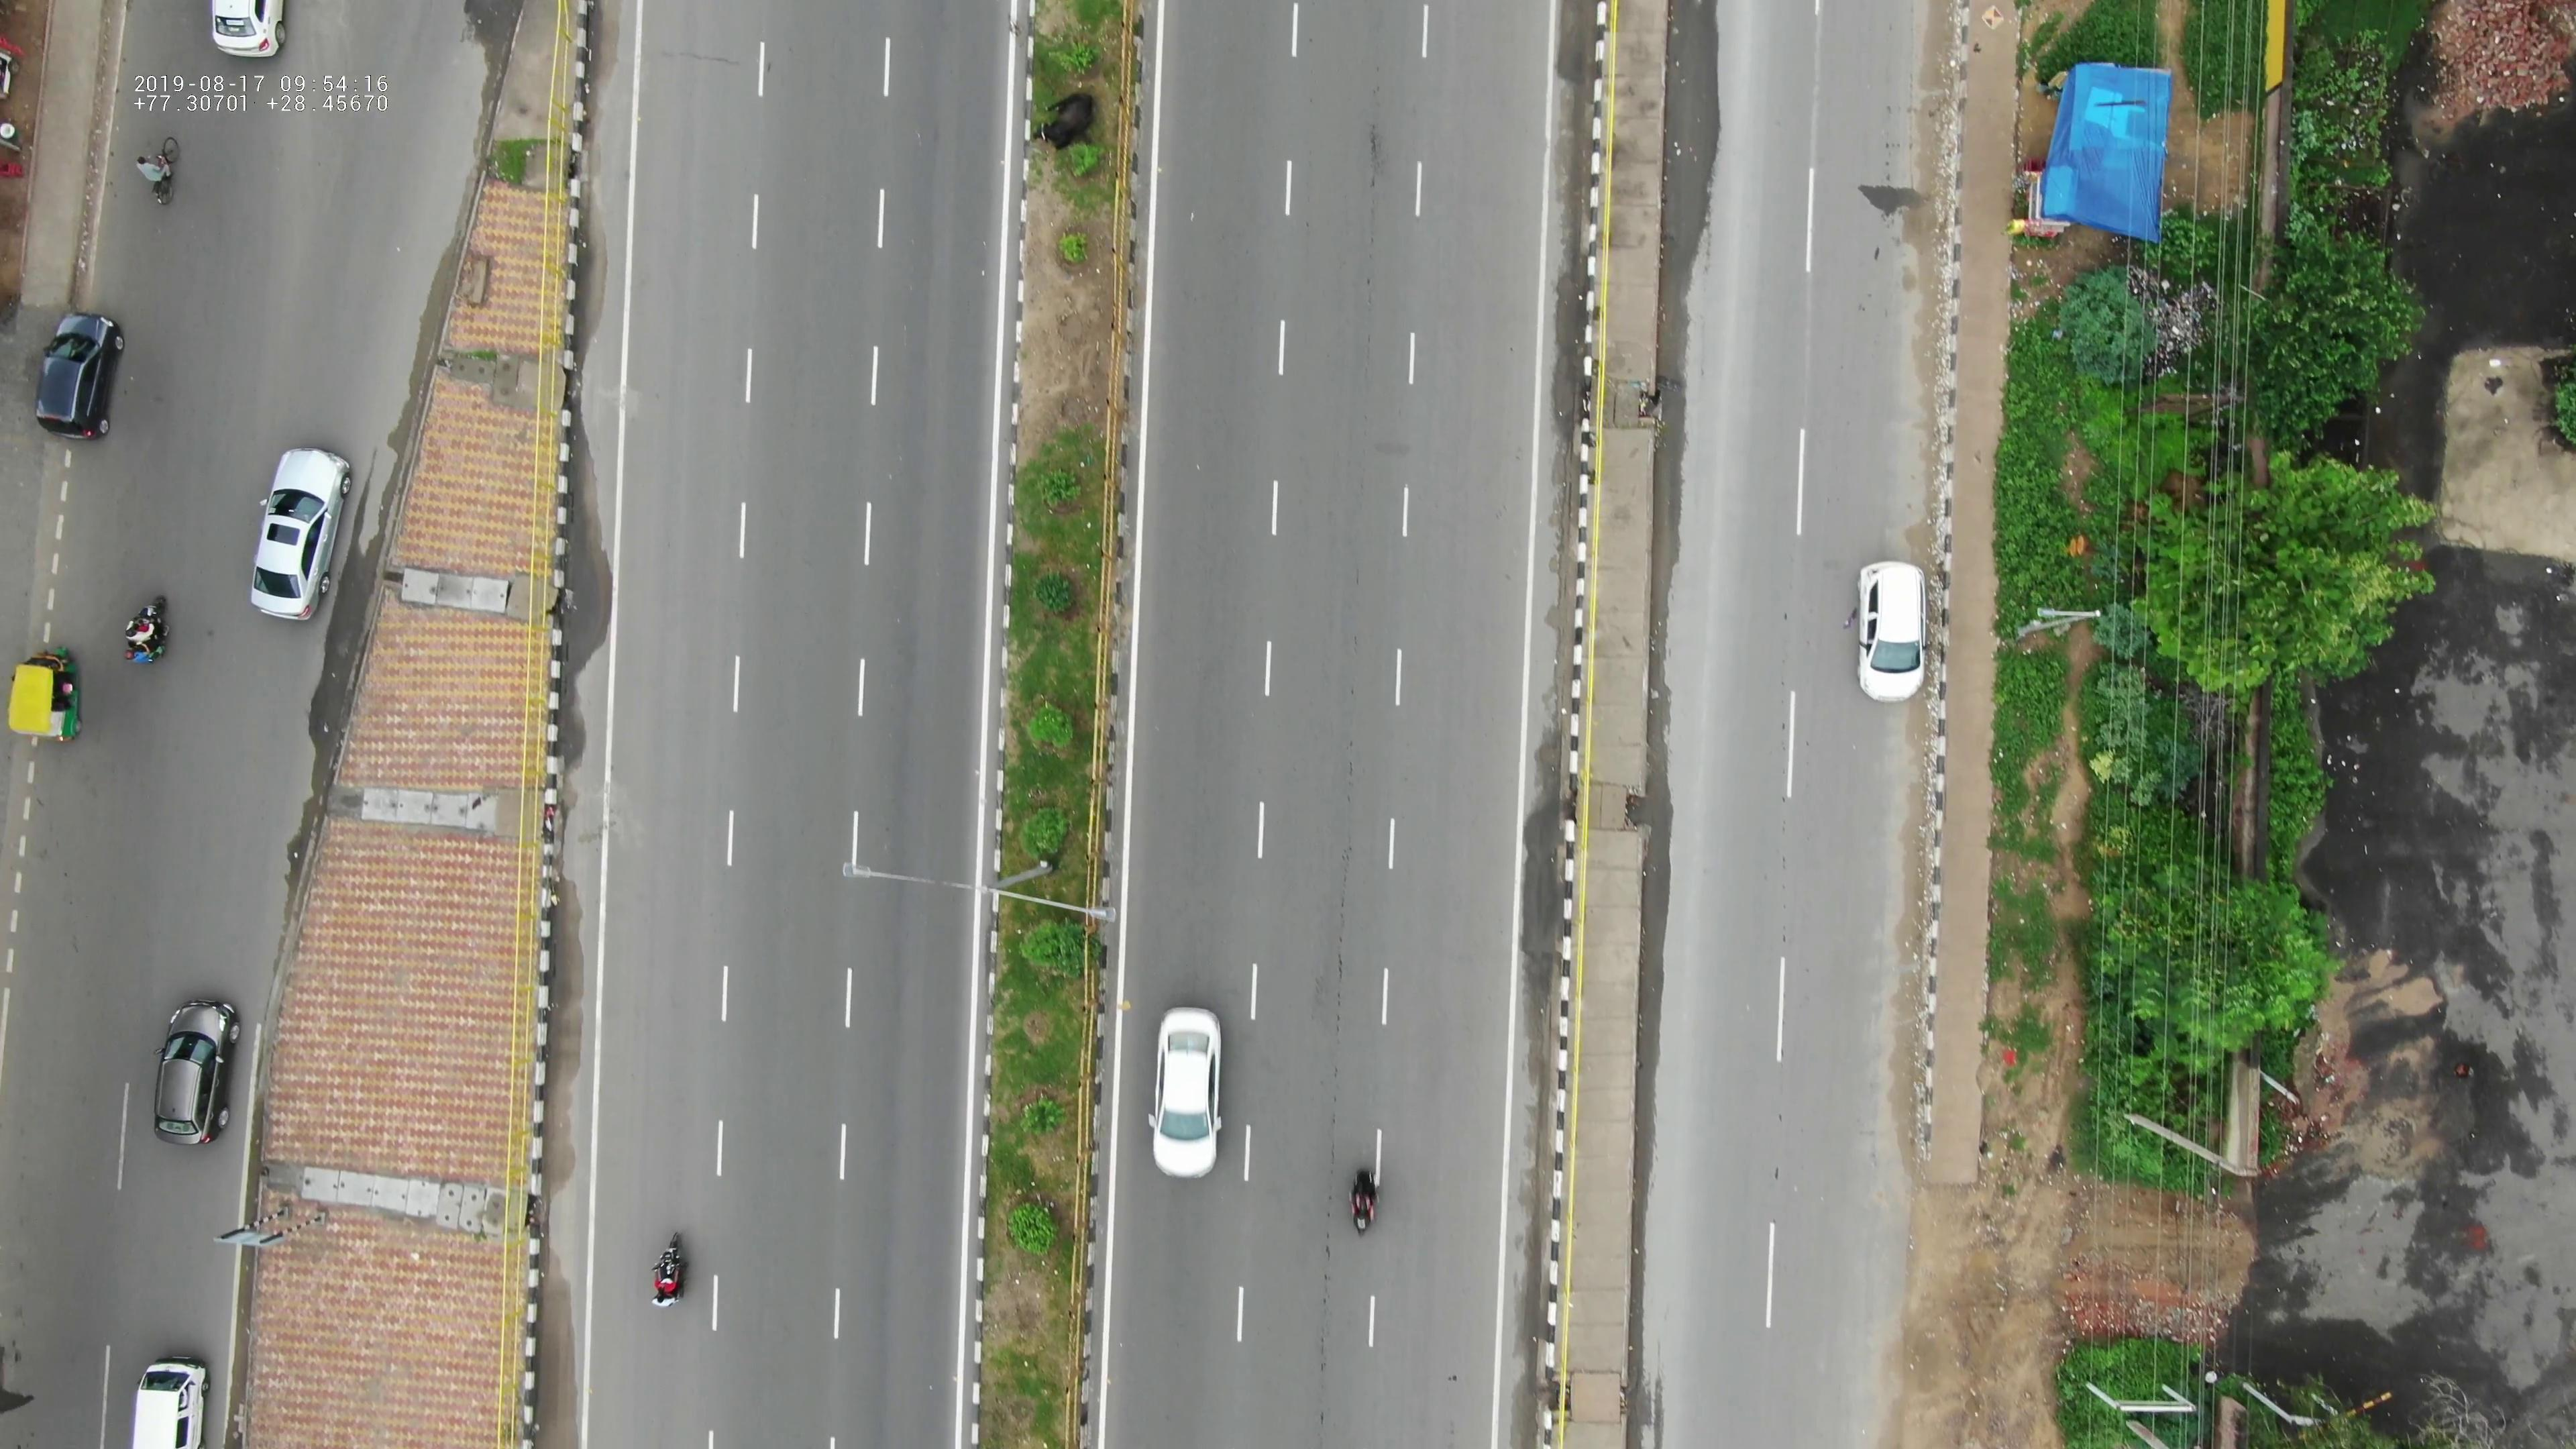Muddy_road: (1902, 44, 1948, 425)
